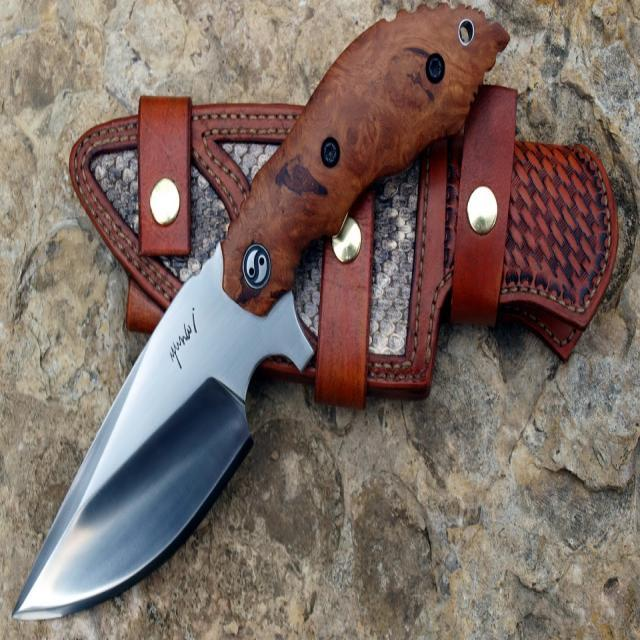Pisau: (5, 0, 507, 640)
